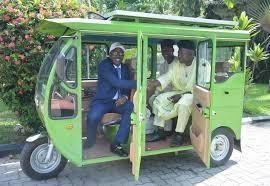keke: (10, 8, 260, 185), (20, 10, 252, 182)
